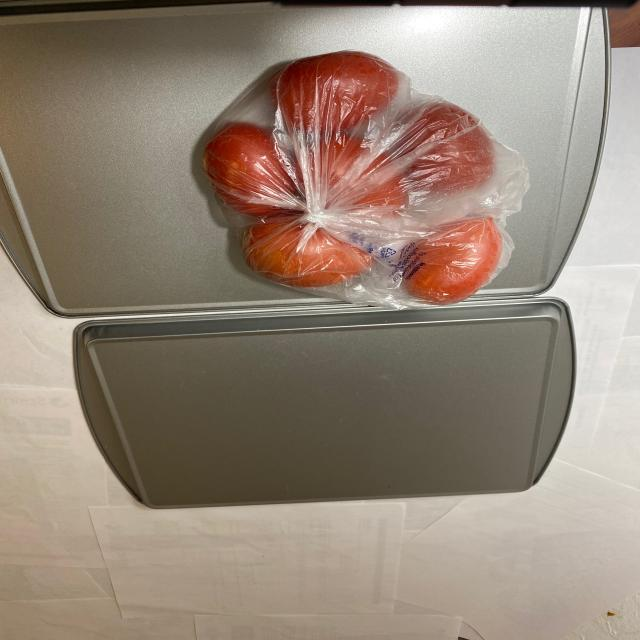tomato: (212, 53, 502, 310)
